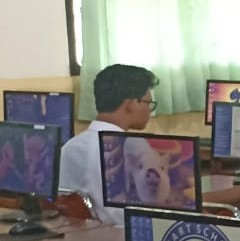monitor: (98, 130, 202, 215), (0, 121, 62, 201), (2, 90, 75, 146), (123, 205, 239, 240), (210, 101, 239, 174), (204, 80, 240, 126)
